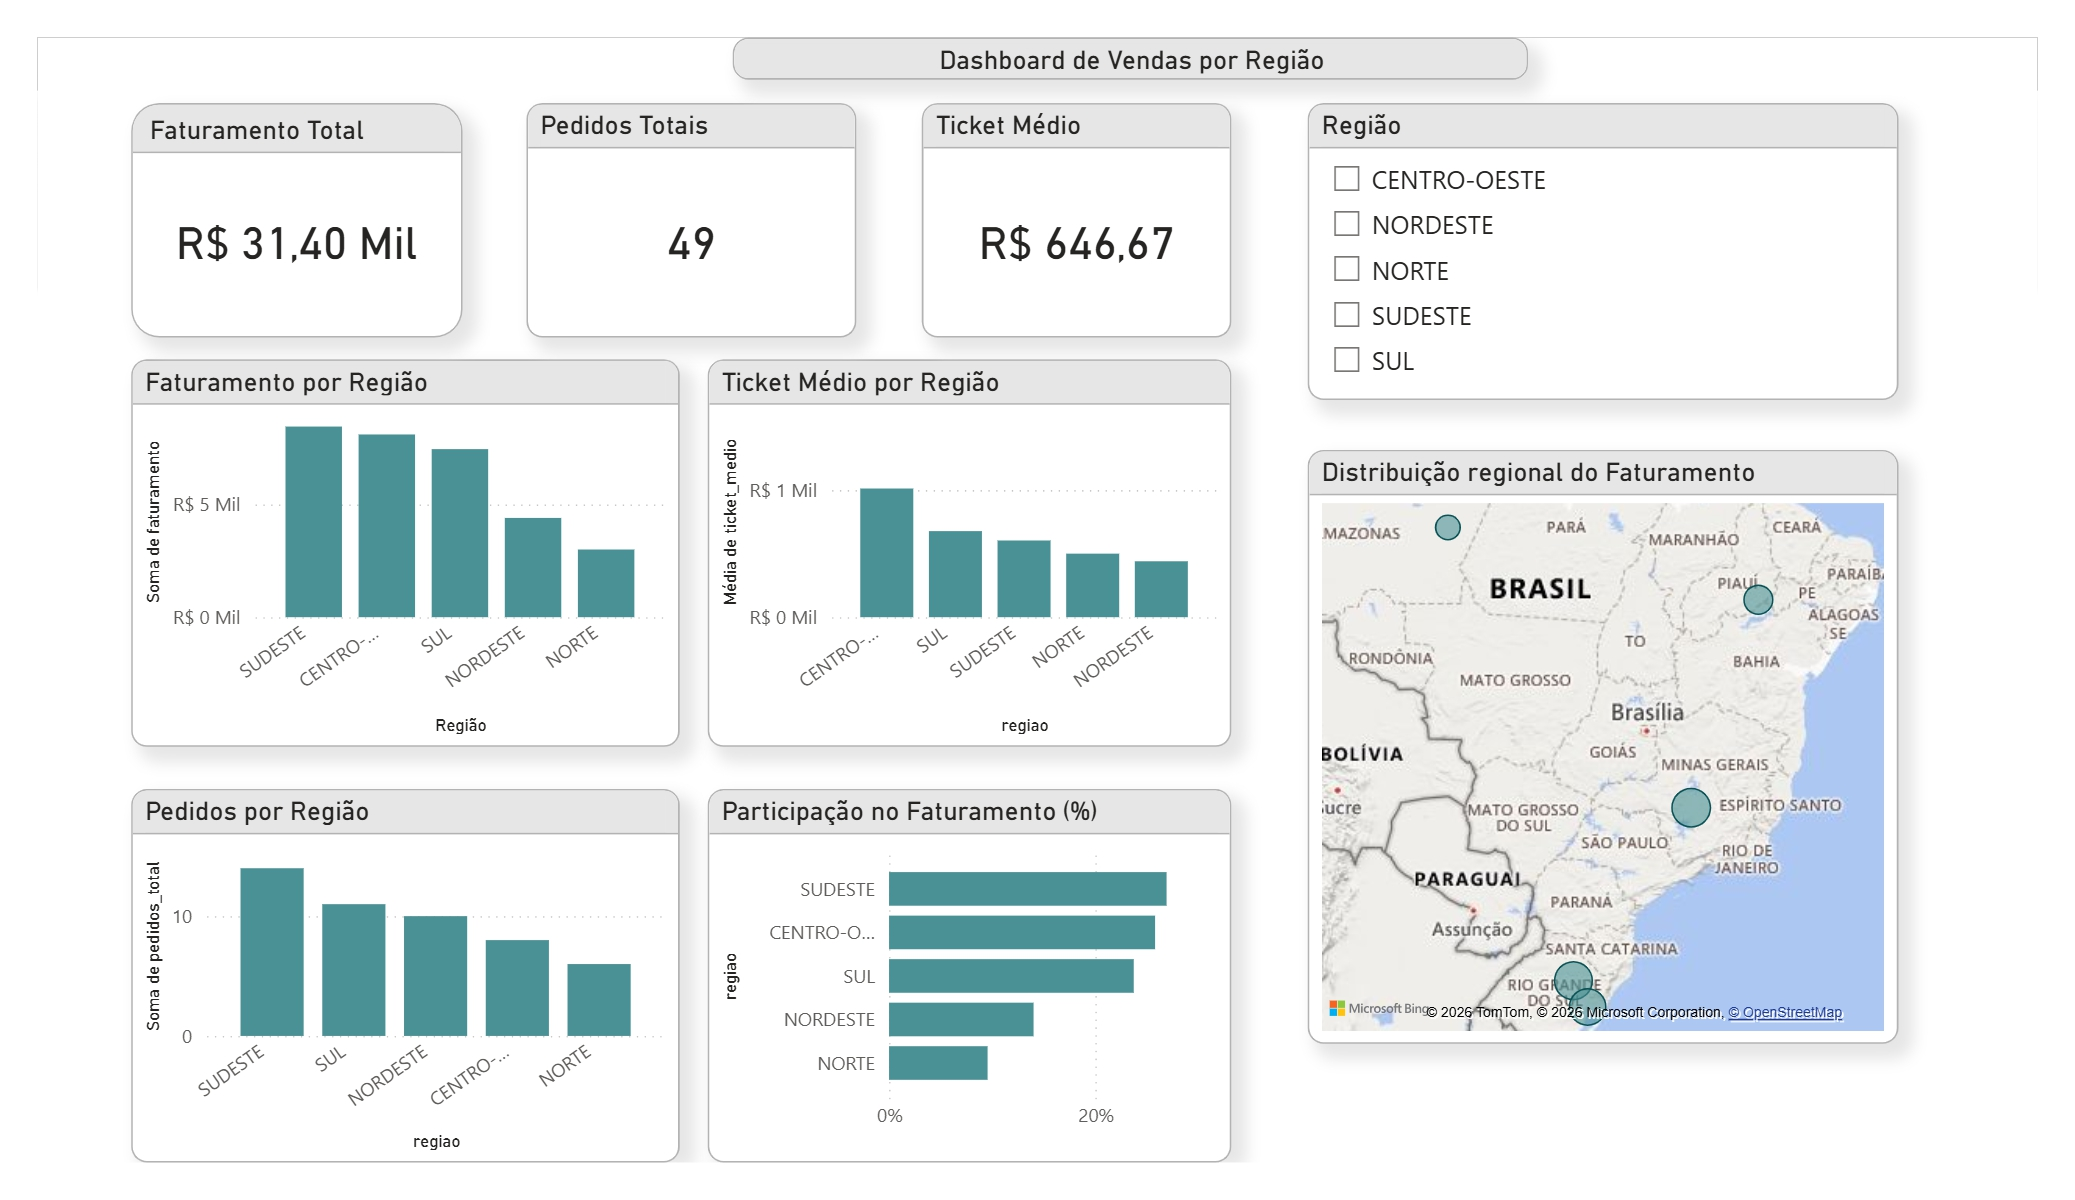

The page's visual inventory and layout, read from the dashboard file:
{"tool":"powerbi","page":{"name":"Página 1","canvas":[1280,720],"ordinal":0},"visuals":[{"type":"columnChart","title":"Faturamento por Região","fields":{"Category":["vendas_analiticas_regiao.regiao"],"Y":["Sum(vendas_analiticas_regiao.faturamento_total)"]},"box":[59.7,206.2,351.7,248],"z":0},{"type":"columnChart","title":"Pedidos por Região","fields":{"Category":["vendas_analiticas_regiao.regiao"],"Y":["Sum(vendas_analiticas_regiao.pedidos_total)"]},"box":[59.7,481.4,351.7,238.6],"z":1000},{"type":"columnChart","title":"Ticket Médio por Região","fields":{"Category":["vendas_analiticas_regiao.regiao"],"Y":["Avg(vendas_analiticas_regiao.ticket_medio)"]},"box":[429.1,206.2,334.9,248],"z":2000},{"type":"card","title":"Faturamento Total","fields":{"Values":["Sum(vendas_analiticas_regiao.faturamento_total)"]},"box":[59.8,41.7,212.2,150.5],"z":3000},{"type":"card","title":"Pedidos Totais","fields":{"Values":["Sum(vendas_analiticas_regiao.pedidos_total)"]},"box":[312.8,41.7,211.3,150.5],"z":4000},{"type":"card","title":"Ticket Médio","fields":{"Values":["Avg(vendas_analiticas_regiao.ticket_medio)"]},"box":[565.8,41.7,197.7,150.5],"z":5000},{"type":"barChart","title":"Participação no Faturamento (%)","fields":{"Category":["vendas_analiticas_regiao.regiao"],"Y":["vendas_analiticas_regiao.Percentual_Faturamento"]},"box":[429.1,481.4,334.9,238.6],"z":6000},{"type":"map","title":"Distribuição regional do Faturamento","fields":{"Category":["vendas_analiticas_regiao.regiao"],"Size":["Sum(vendas_analiticas_regiao.faturamento_total)"]},"box":[813.4,263.9,377.2,379.9],"z":7000},{"type":"textbox","box":[445.2,0,508.7,27.2],"z":8000},{"type":"slicer","title":"Região","fields":{"Values":["vendas_analiticas_regiao.regiao"]},"box":[813.4,41.7,377.2,190.4],"z":9000}]}

Visuals, with their boxes on the page's 1280x720 design canvas (x1, y1, x2, y2). These are canvas units, not pixel positions in the 2075x1200 screenshot, which may show the page scaled, cropped or inside an application window:
"Faturamento por Região" columnChart: <bbox>60, 206, 411, 454</bbox>
"Pedidos por Região" columnChart: <bbox>60, 481, 411, 720</bbox>
"Ticket Médio por Região" columnChart: <bbox>429, 206, 764, 454</bbox>
"Faturamento Total" card: <bbox>60, 42, 272, 192</bbox>
"Pedidos Totais" card: <bbox>313, 42, 524, 192</bbox>
"Ticket Médio" card: <bbox>566, 42, 764, 192</bbox>
"Participação no Faturamento (%)" barChart: <bbox>429, 481, 764, 720</bbox>
"Distribuição regional do Faturamento" map: <bbox>813, 264, 1191, 644</bbox>
textbox: <bbox>445, 0, 954, 27</bbox>
"Região" slicer: <bbox>813, 42, 1191, 232</bbox>
